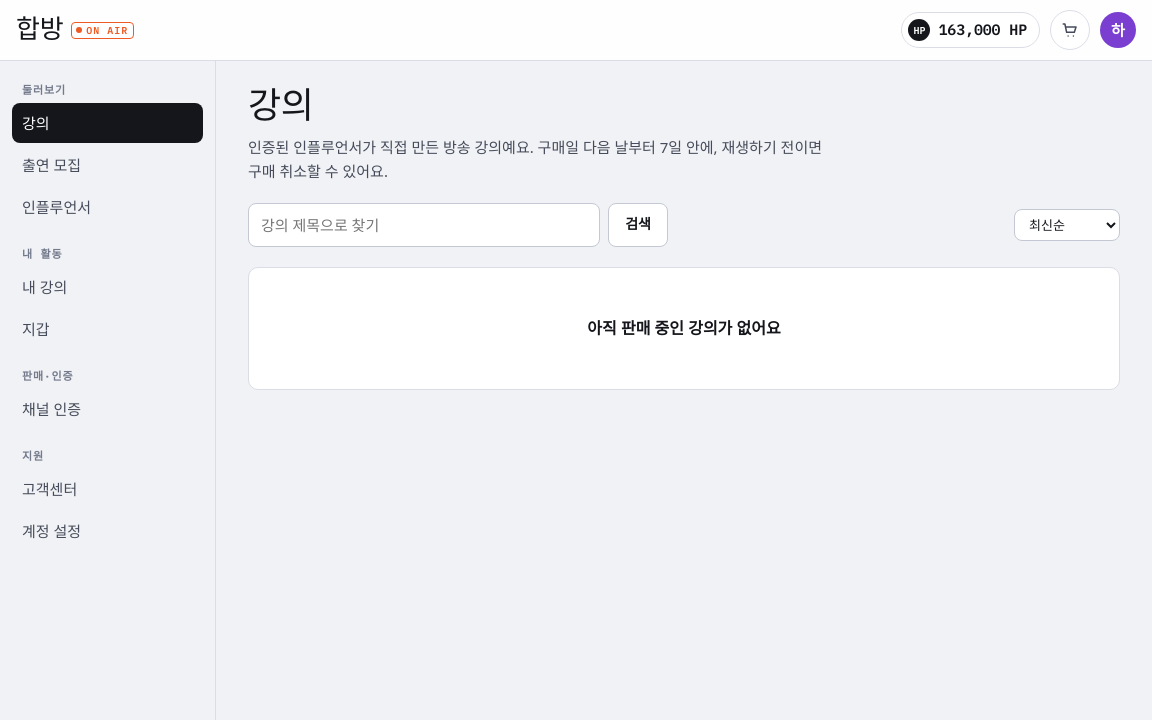
Test: 아바타 메뉴 › 상단 바도 아바타 메뉴로 로그아웃하고, 헤더에 로그아웃 버튼이 드러나 있지 않다
Check: the button "로그아웃" is not shown
Click the button named "하늘 메뉴". click: [1118, 30]
box: [1100,12,1136,48]
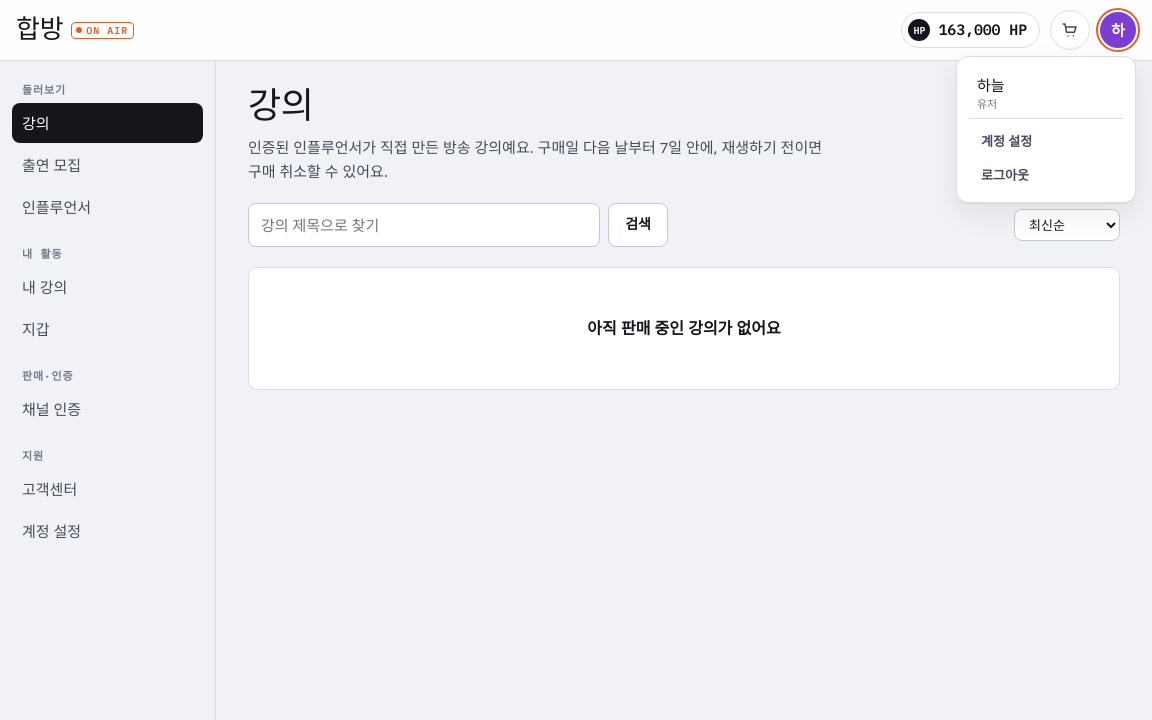
Check: the button "로그아웃" is shown, box [969,161,1123,190]
